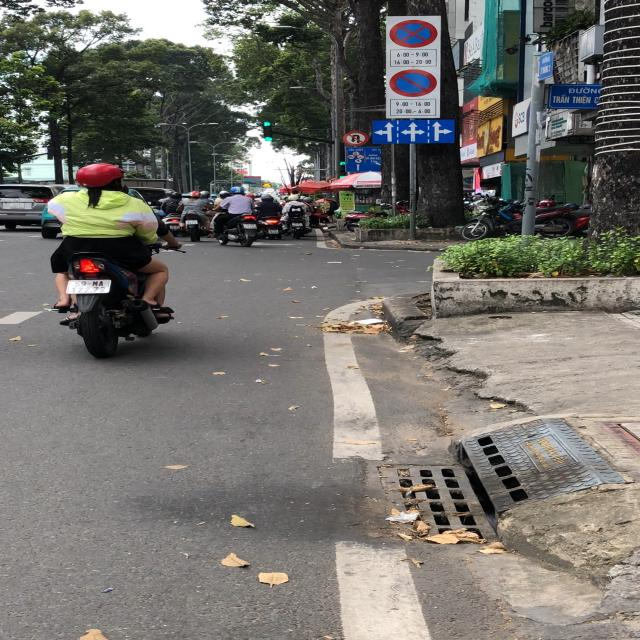Bien bao cam do xe: (389, 68, 441, 100)
Bien bao cam dung xe va do xe: (388, 18, 441, 50)
Bien bao cam quay dau xe: (340, 128, 368, 147)
